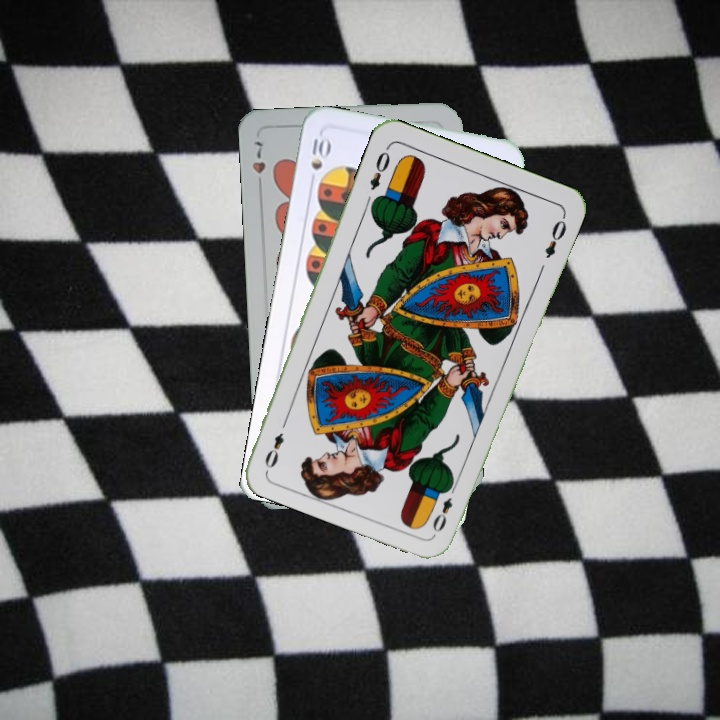EO: (428, 479, 459, 535), (365, 142, 393, 193)
H7: (248, 137, 268, 193)
S10: (306, 132, 333, 189)
